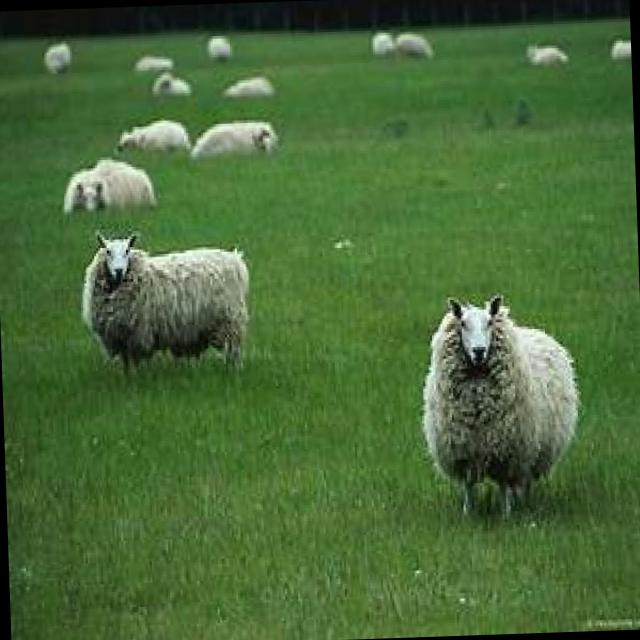animal: (415, 290, 583, 522), (78, 224, 252, 379), (60, 156, 154, 214), (187, 119, 278, 160), (114, 116, 190, 154), (220, 74, 274, 96), (149, 68, 190, 96), (393, 31, 432, 58), (524, 42, 567, 65), (41, 41, 70, 74), (132, 53, 172, 70), (370, 29, 394, 56), (206, 35, 230, 60), (609, 37, 629, 59)
